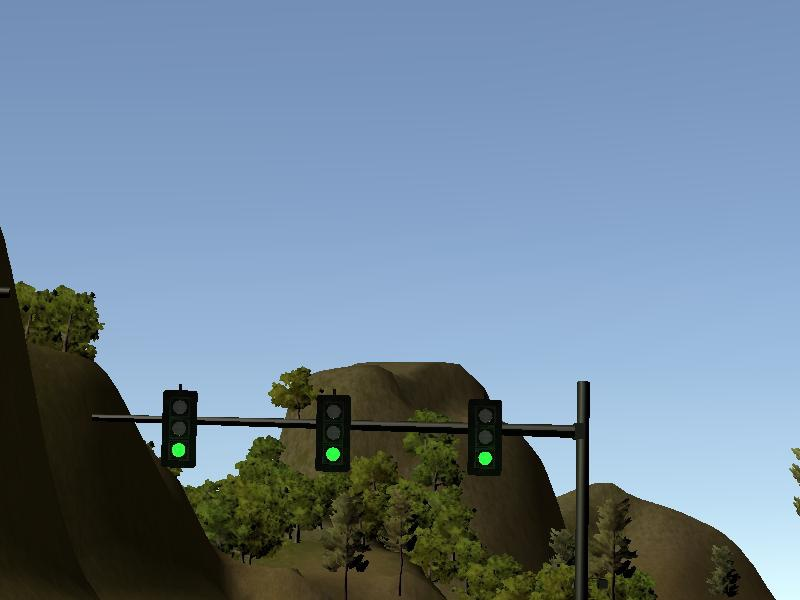Green: (163, 389, 195, 468), (468, 401, 501, 475), (317, 396, 348, 471)
